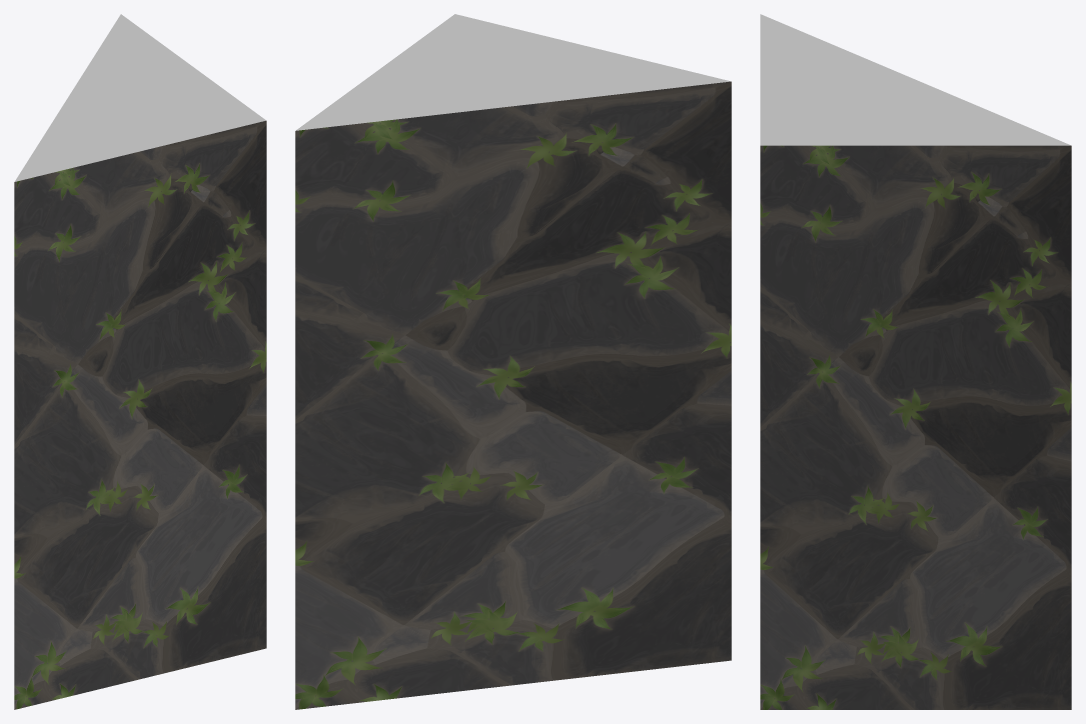
Rendered from Romb_06.fbx.
3 views of the same model, side by side, from view 1: azimuth 30°, elevation 25°; view 2: azimuth 150°, elevation 25°; view 3: azimuth 270°, elevation 25° (orthographic). The views are drawn at different scales.
Parts seen in each view (by area): view 1: Cube_03_013, Object068; view 2: Cube_03_018, Object068; view 3: Cube_03_014, Object068.
Boxes of the visible parts, <box> form: Cube_03_013: <box>14,120,266,709</box>; Object068: <box>14,14,265,181</box>; Cube_03_018: <box>295,81,731,709</box>; Object068: <box>295,14,731,130</box>; Cube_03_014: <box>760,145,1071,709</box>; Object068: <box>760,14,1070,145</box>.
Bounding box in the file's own units: 400 × 400 × 800.
